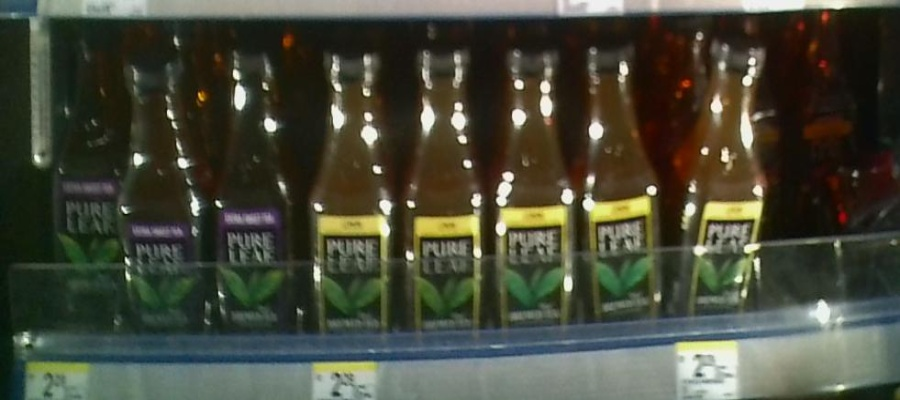bottle: (300, 45, 401, 353), (672, 31, 768, 325), (489, 31, 579, 341), (208, 48, 295, 339), (120, 59, 206, 345), (402, 40, 483, 342), (584, 32, 665, 324), (48, 31, 117, 347)
